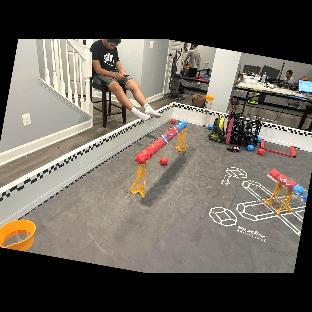V5_BLUE: (248, 144, 254, 151), (208, 124, 213, 130), (257, 137, 262, 142)
V5_RED: (258, 147, 265, 156), (160, 157, 167, 165), (170, 118, 176, 123)
blueingoal: (295, 184, 302, 195), (160, 136, 169, 143), (304, 191, 308, 203), (176, 124, 182, 132), (178, 123, 185, 129), (181, 121, 187, 126)
redingoal: (150, 144, 158, 156), (135, 155, 146, 163), (280, 173, 286, 186), (271, 168, 278, 179), (287, 179, 294, 190), (139, 152, 151, 158), (145, 148, 155, 155), (153, 142, 162, 149), (157, 140, 166, 146), (168, 131, 175, 138), (164, 134, 172, 140), (170, 130, 178, 135), (173, 128, 179, 133)
